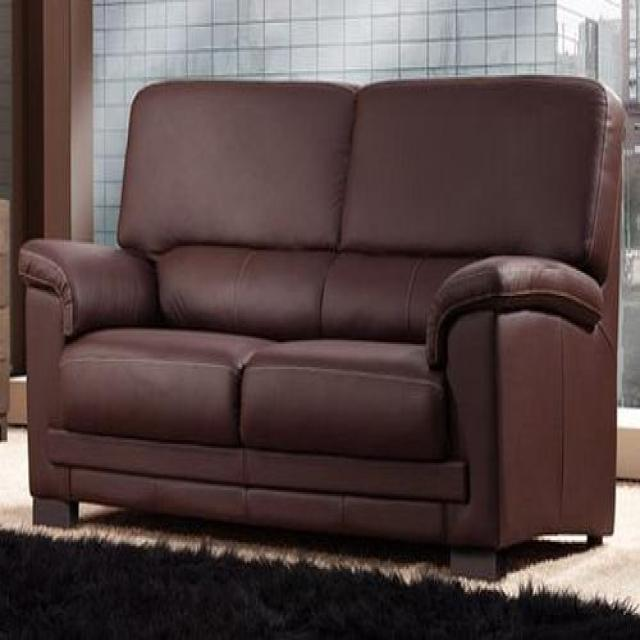sofa: (16, 76, 627, 584)
